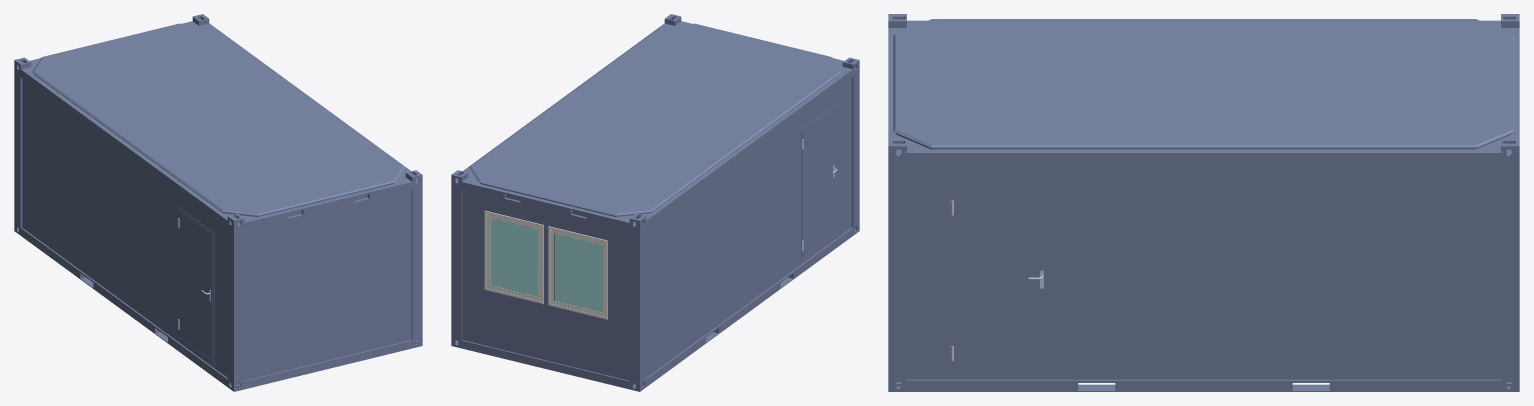
Rendered from Büro längsseitig HC 2600 BC 3000.obj.
The picture shows the model from 3 angles, left to right: view 1: azimuth 30°, elevation 25°; view 2: azimuth 150°, elevation 25°; view 3: azimuth 270°, elevation 25°; orthographic projection. The views are drawn at different scales.
Visible parts, largest first — view 1: |Test_buerolängs~0|Root|Test-Büro2~0-1|color, |Test_buerolängs~0|Root|Cont-Tür~0-3|color-2; view 2: |Test_buerolängs~0|Root|Test-Büro2~0-1|color, |Test_buerolängs~0|Root|Cont-Tür~0-3|color-2, |Test_buerolängs~0|Root|Cont-Fenster~0-1|color-4, |Test_buerolängs~0|Root|Cont-Fenster~0-3|color-4, |Test_buerolängs~0|Root|Cont-Fenster~0-1|color-5, |Test_buerolängs~0|Root|Cont-Fenster~0-3|color-5; view 3: |Test_buerolängs~0|Root|Test-Büro2~0-1|color, |Test_buerolängs~0|Root|Cont-Tür~0-2|color-2.
Part boxes in pixels (left/top/right/bottom): |Test_buerolängs~0|Root|Test-Büro2~0-1|color: left=14, top=14, right=422, bottom=391; |Test_buerolängs~0|Root|Cont-Tür~0-3|color-2: left=177, top=207, right=214, bottom=364; |Test_buerolängs~0|Root|Test-Büro2~0-1|color: left=451, top=14, right=859, bottom=391; |Test_buerolängs~0|Root|Cont-Tür~0-3|color-2: left=801, top=103, right=837, bottom=261; |Test_buerolängs~0|Root|Cont-Fenster~0-1|color-4: left=490, top=218, right=538, bottom=296; |Test_buerolängs~0|Root|Cont-Fenster~0-3|color-4: left=554, top=233, right=602, bottom=311; |Test_buerolängs~0|Root|Cont-Fenster~0-1|color-5: left=484, top=210, right=543, bottom=303; |Test_buerolängs~0|Root|Cont-Fenster~0-3|color-5: left=548, top=226, right=607, bottom=319; |Test_buerolängs~0|Root|Test-Büro2~0-1|color: left=888, top=14, right=1519, bottom=391; |Test_buerolängs~0|Root|Cont-Tür~0-2|color-2: left=948, top=186, right=1052, bottom=375.
Bounding box in the file's own units: 3.11 × 2.6 × 6.05.
